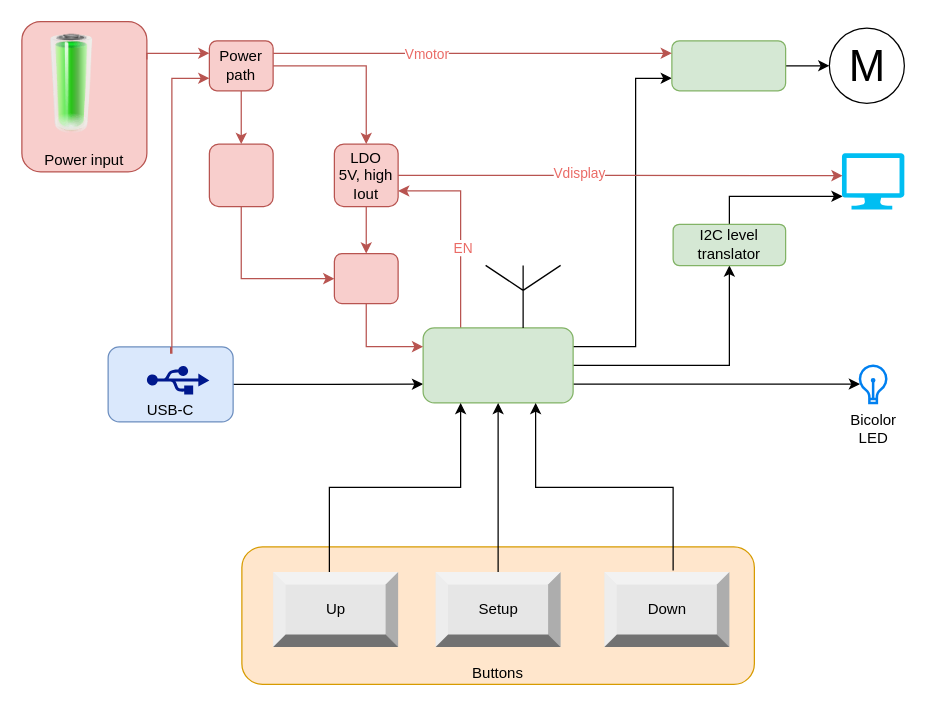
Image size: 926x708. Some labels were removed from this diagram. Here are the shapes that lost their labels. From the top down, the centre of each, then its label:
point (728, 65): Motor driver
point (240, 174): LDO 5V lowIq
point (872, 180): LCD display
point (365, 278): LDO 3V3
point (522, 296): WiFi
point (497, 365): MCU
